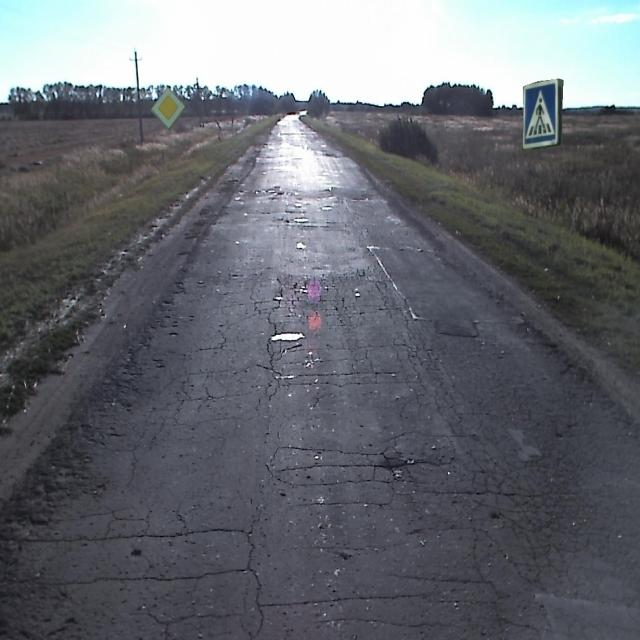road: (0, 116, 639, 639)
